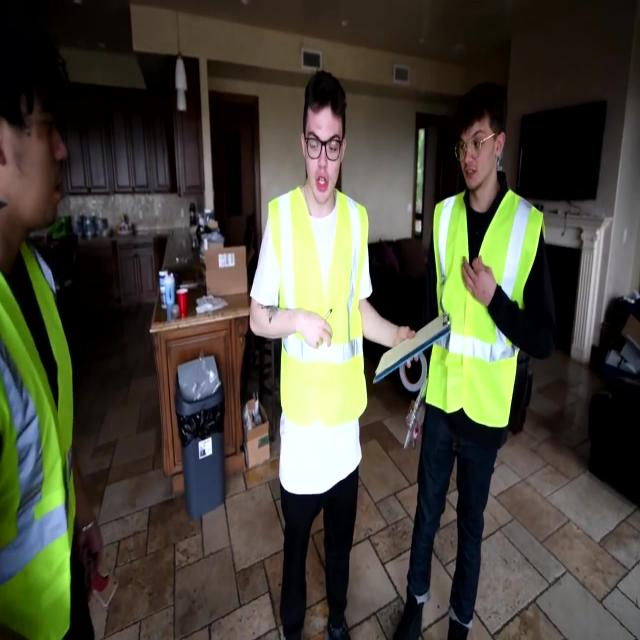Reflective-Jacket: (1, 221, 85, 639), (421, 186, 547, 434), (266, 184, 374, 444)
